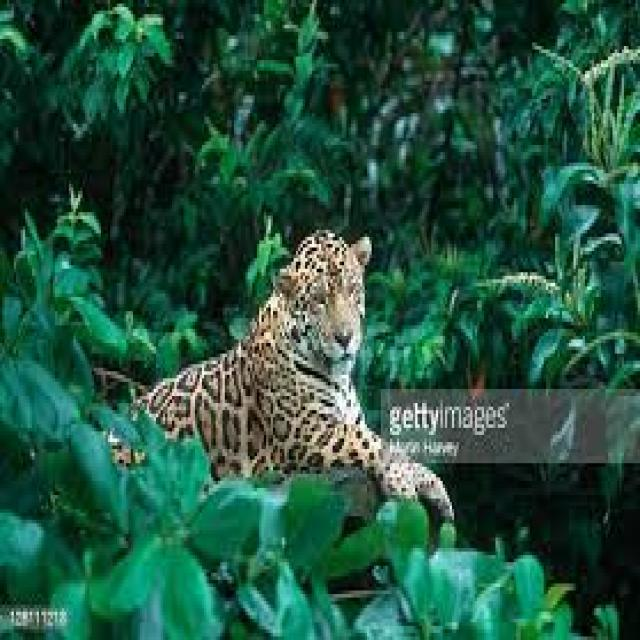Jaguar: (115, 226, 454, 524)
